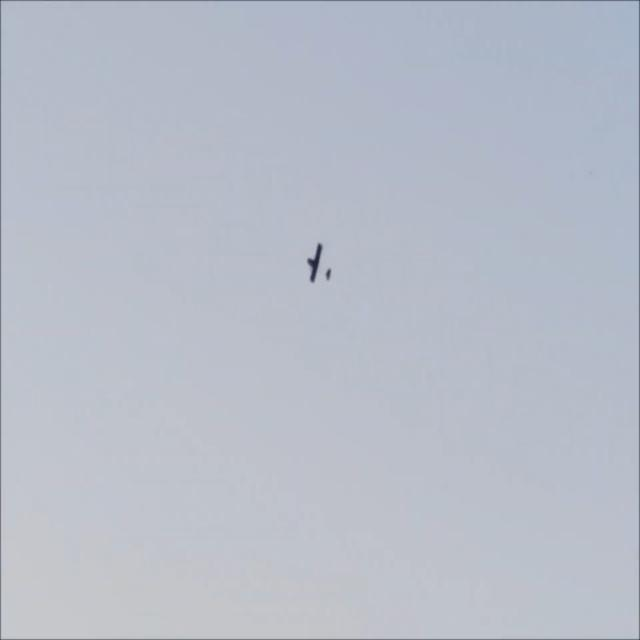plane: (305, 241, 331, 283)
